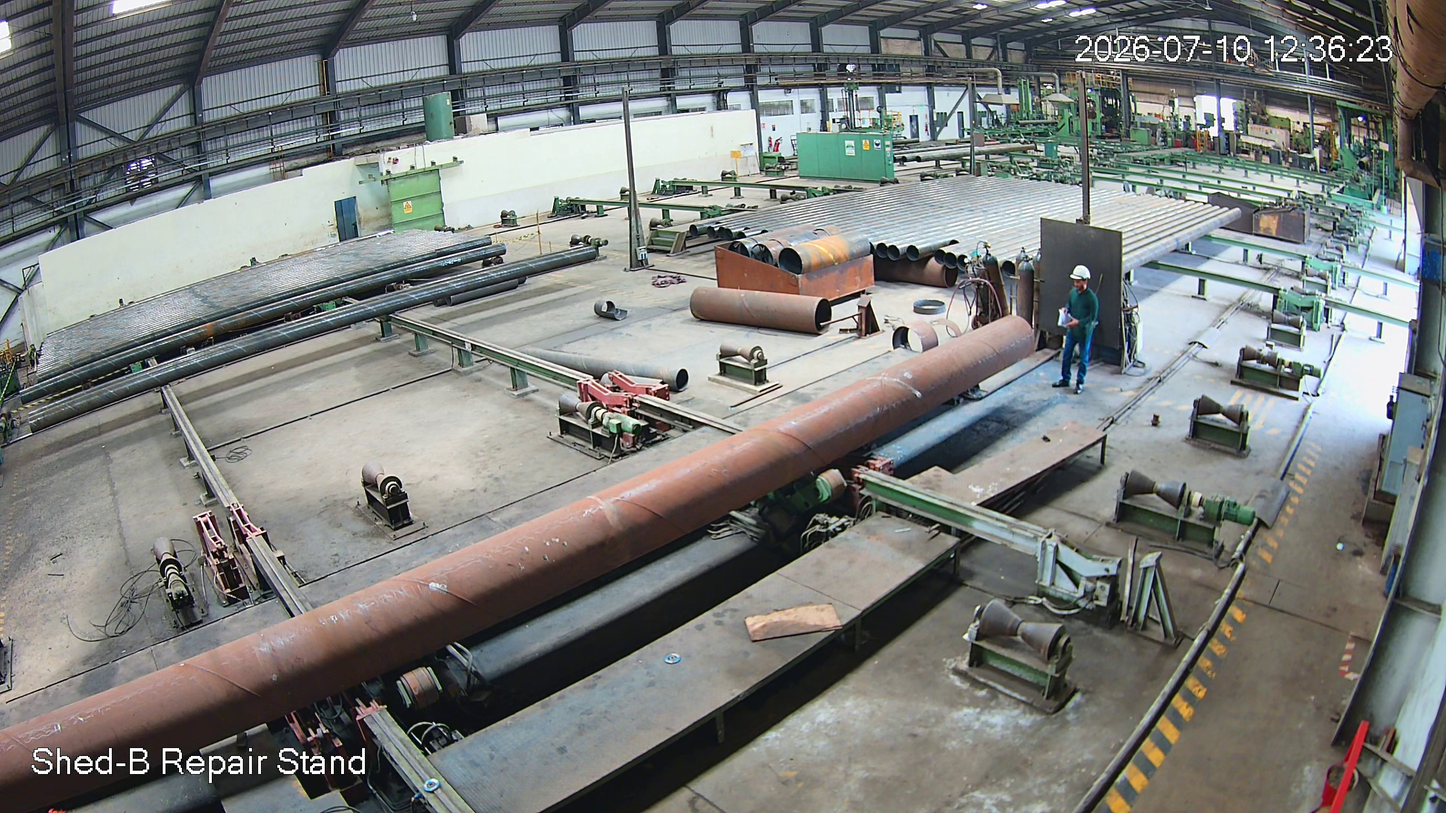Helmet: (1069, 259, 1094, 309)
Person: (1050, 264, 1099, 396)
